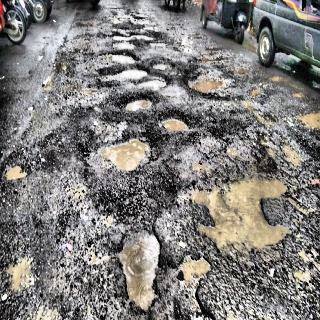pothole: (101, 12, 313, 320), (10, 252, 36, 304), (2, 162, 28, 184)
